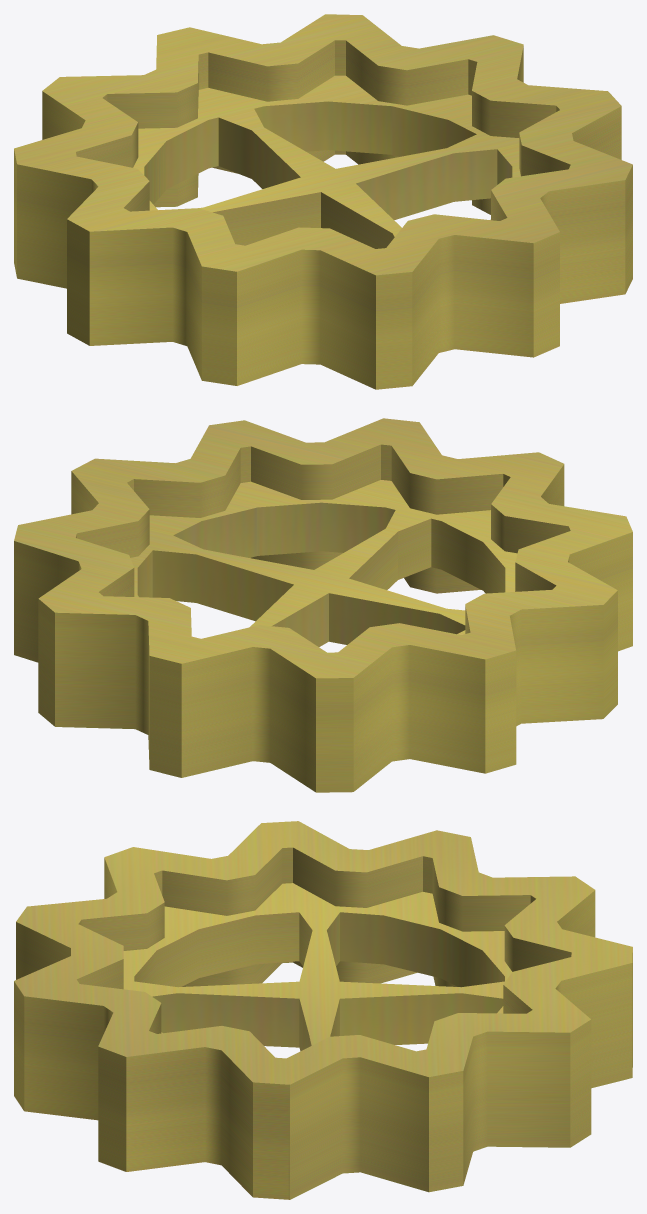
File: CogFacet4Spoke011.fbx
3 views of the same model, one above another, from view 1: azimuth 30°, elevation 25°; view 2: azimuth 150°, elevation 25°; view 3: azimuth 270°, elevation 25° (orthographic).
Visible parts, largest first — view 1: CogFacet4Spoke011; view 2: CogFacet4Spoke011; view 3: CogFacet4Spoke011.
Part boxes in pixels (x1,y1,x2,y2): CogFacet4Spoke011: (14, 14, 632, 389); CogFacet4Spoke011: (14, 418, 632, 792); CogFacet4Spoke011: (14, 821, 632, 1199).
Size of the model in its own units: 107 by 21.75 by 106.
